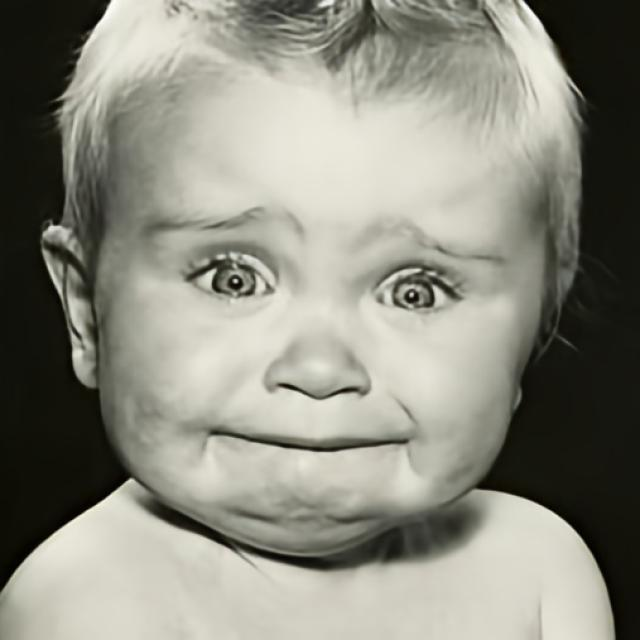fear: (92, 62, 548, 558)
